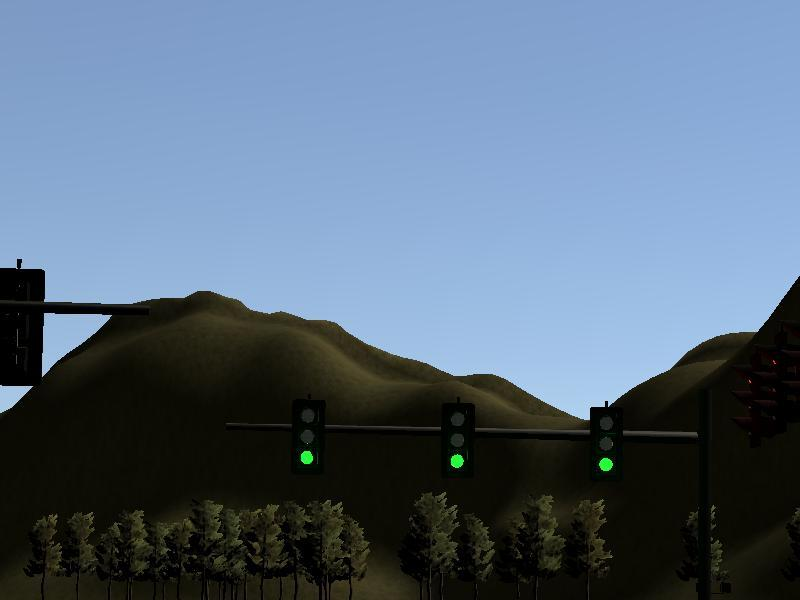Green: (290, 399, 325, 479), (589, 406, 624, 486), (439, 401, 474, 481)
